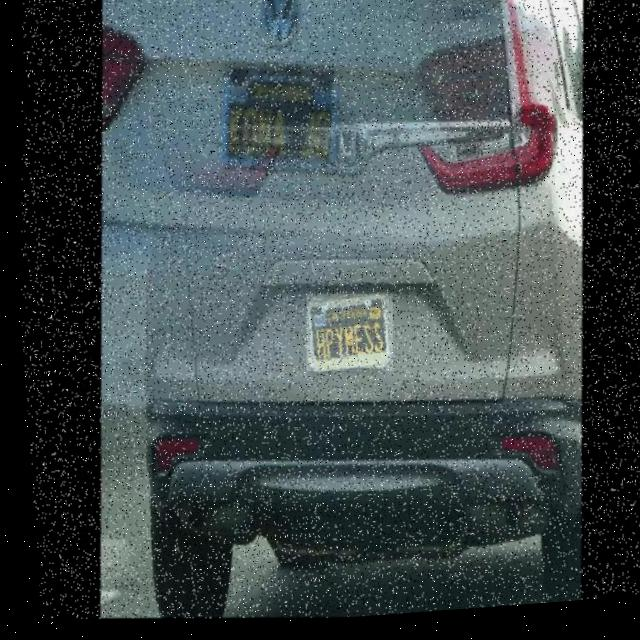LicensePlate: (296, 293, 392, 381)
